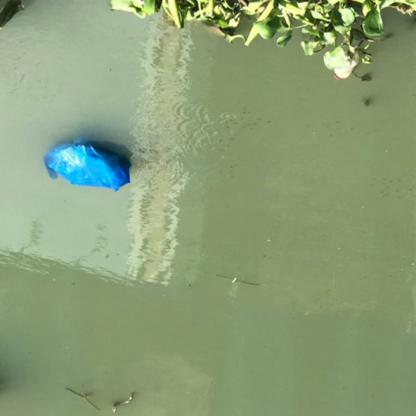Trash: (40, 133, 135, 196)
